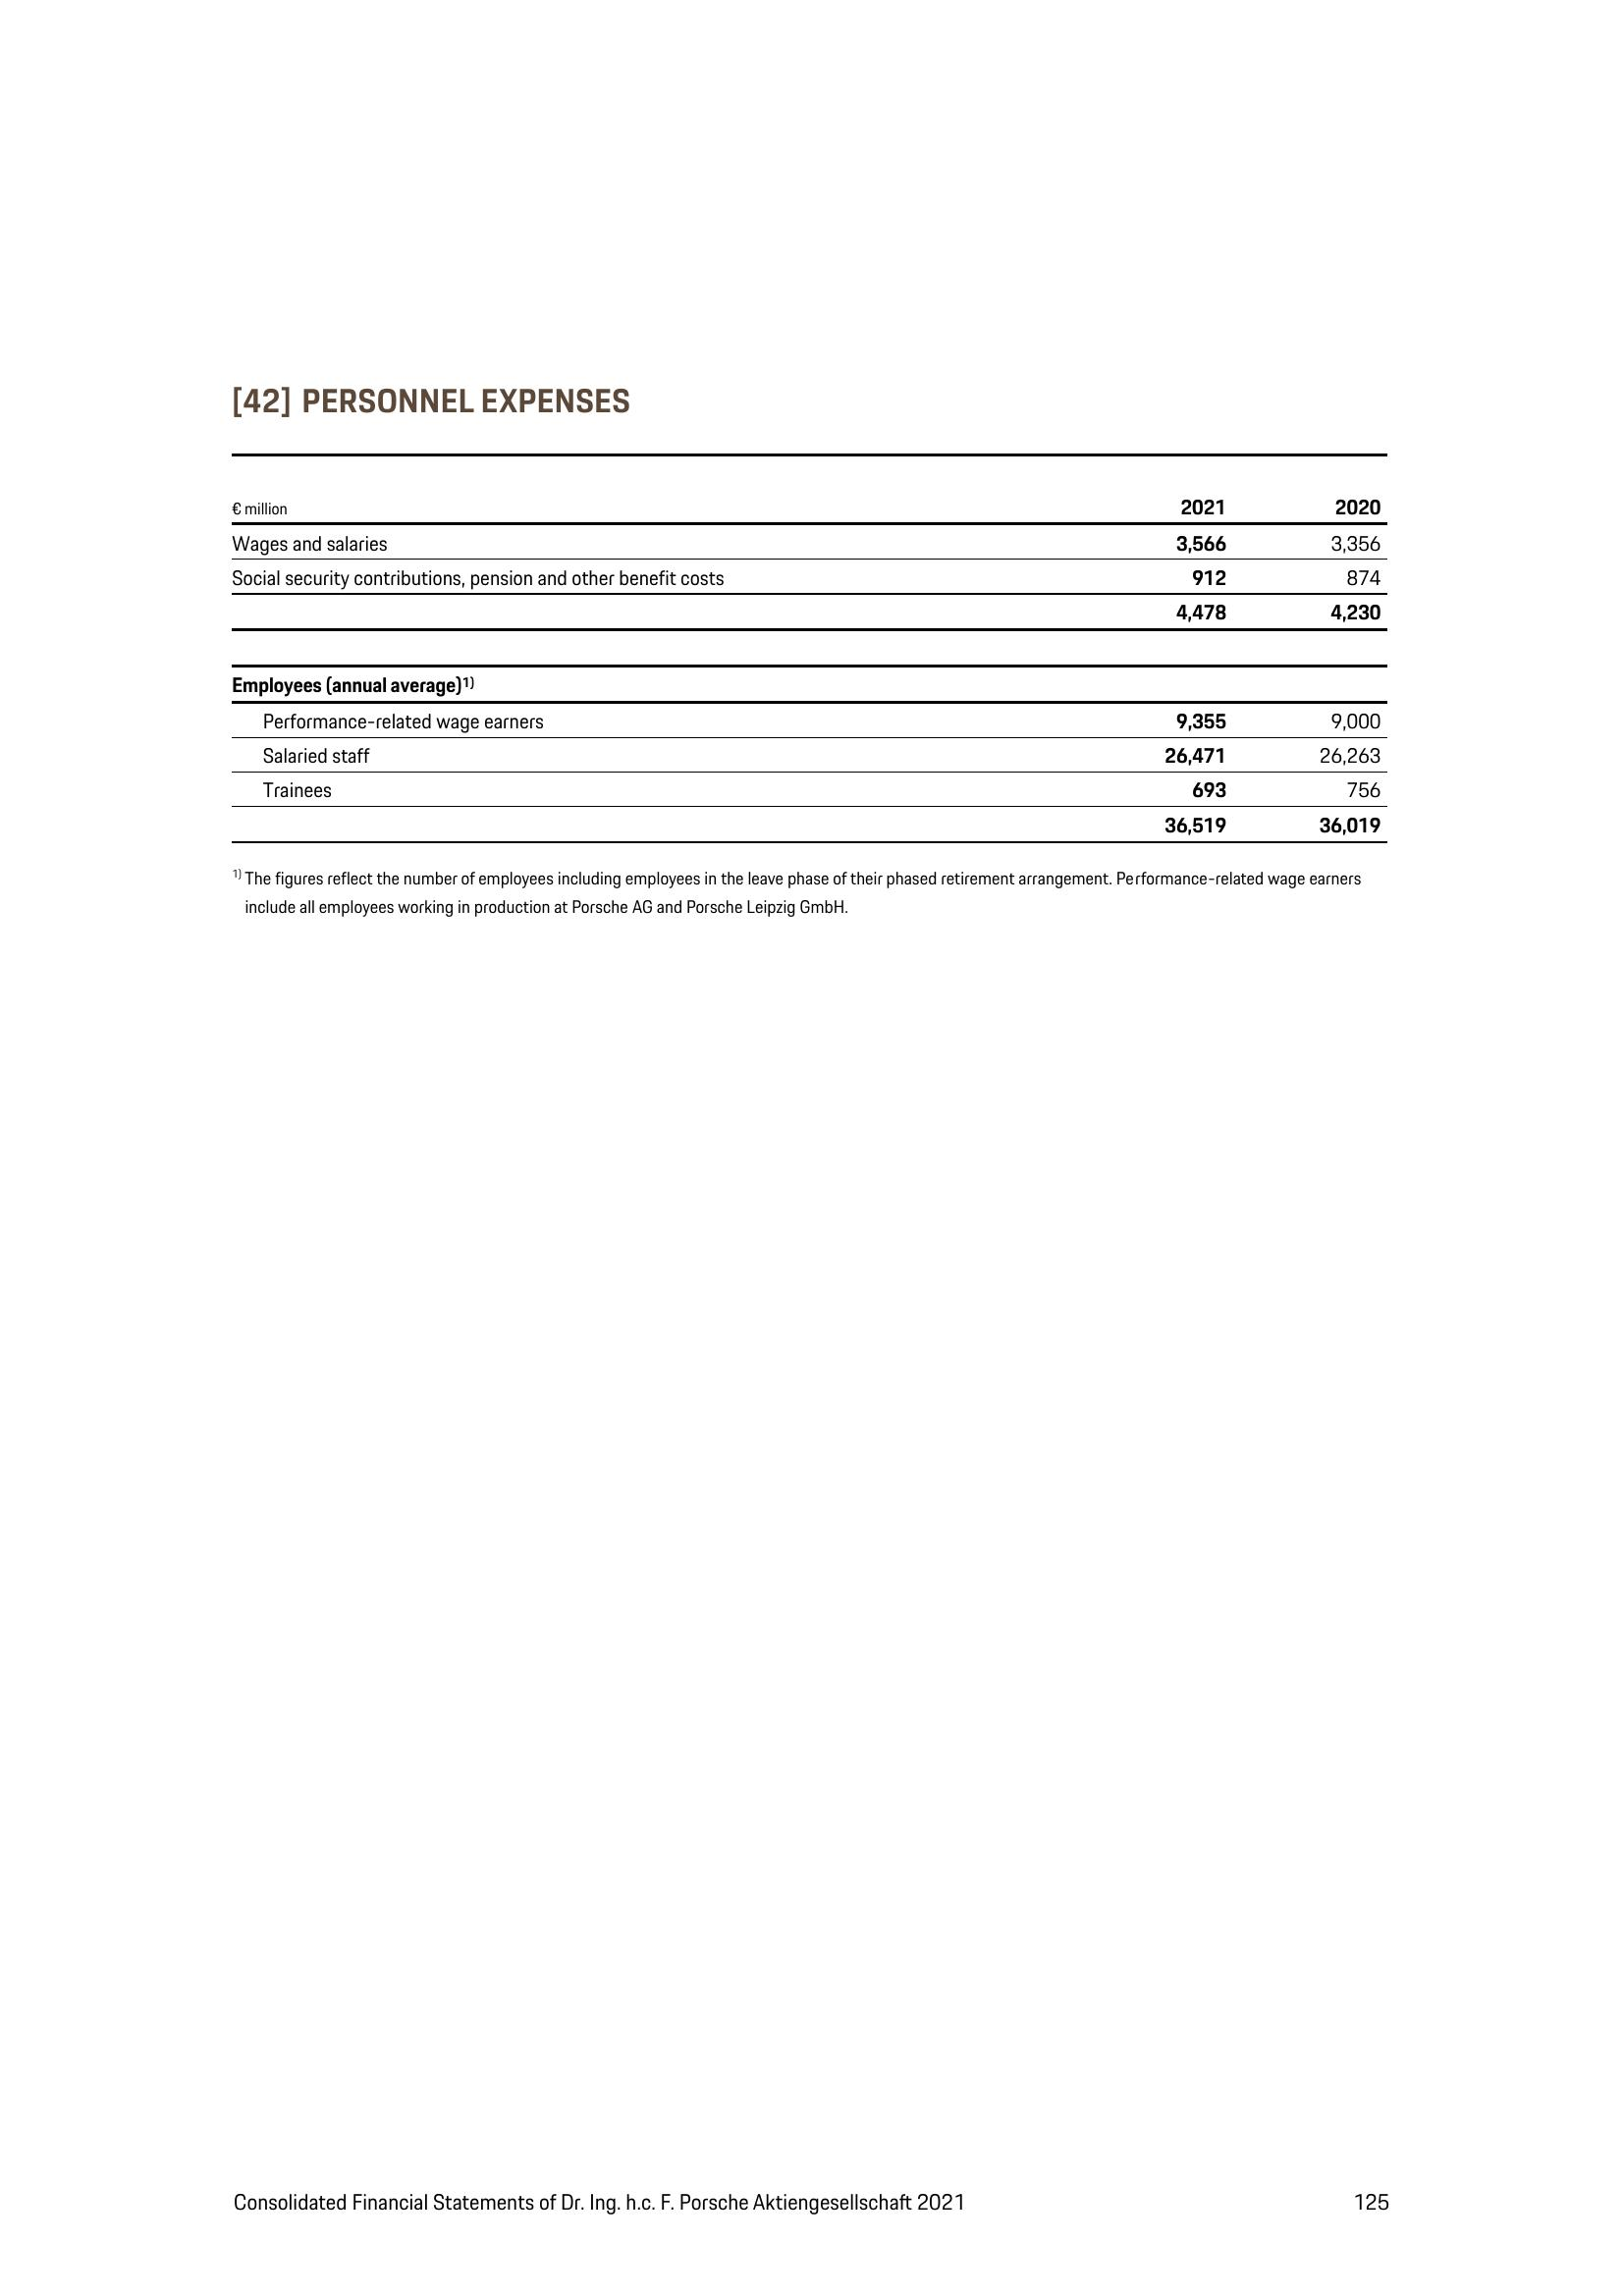Footer: (0, 2134, 1624, 2296)
Header: (0, 0, 1624, 241)
Table: (207, 439, 1420, 841)
